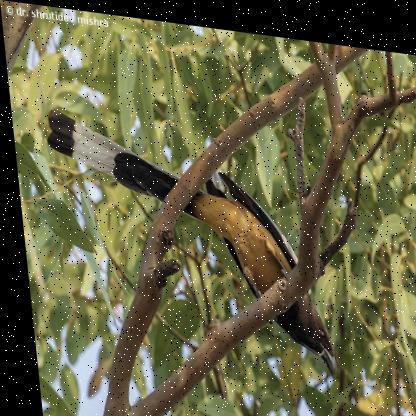Burung: (40, 107, 329, 370)
